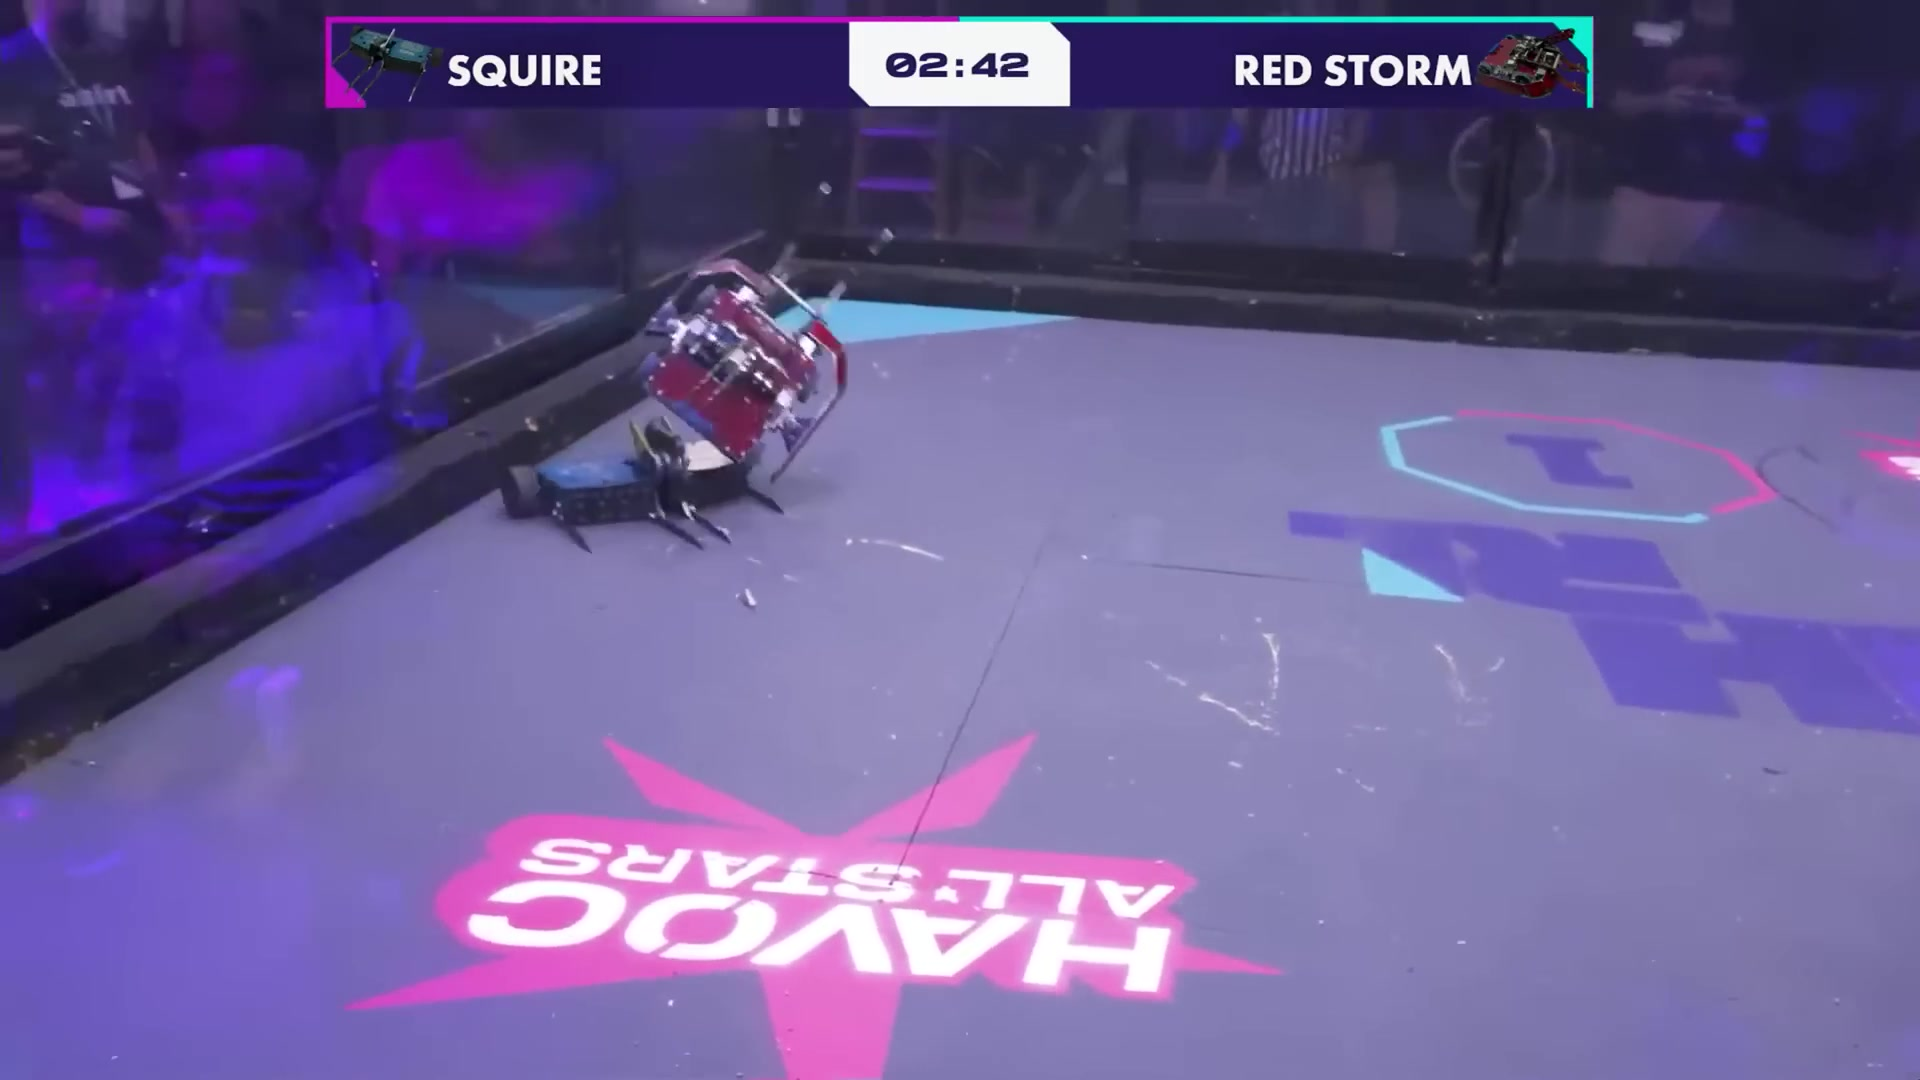combatbot: (636, 261, 849, 488), (502, 422, 782, 547)
